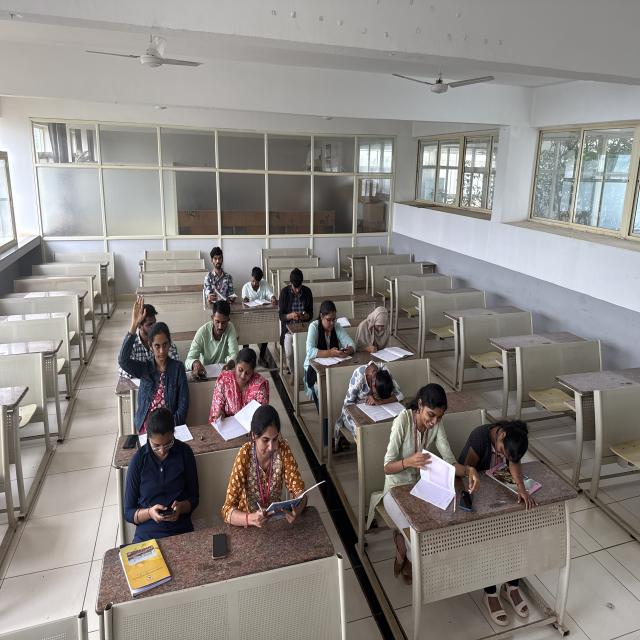Hand Rising: (112, 294, 188, 407)
Reading: (220, 403, 324, 523), (380, 383, 460, 513), (204, 345, 267, 446), (192, 243, 241, 305), (240, 263, 281, 317)
Sleeping: (460, 411, 538, 490), (337, 360, 405, 420)
Using Phone: (118, 403, 202, 547), (186, 294, 238, 387), (302, 296, 357, 374), (275, 262, 318, 326)
Writing: (351, 302, 416, 362)
